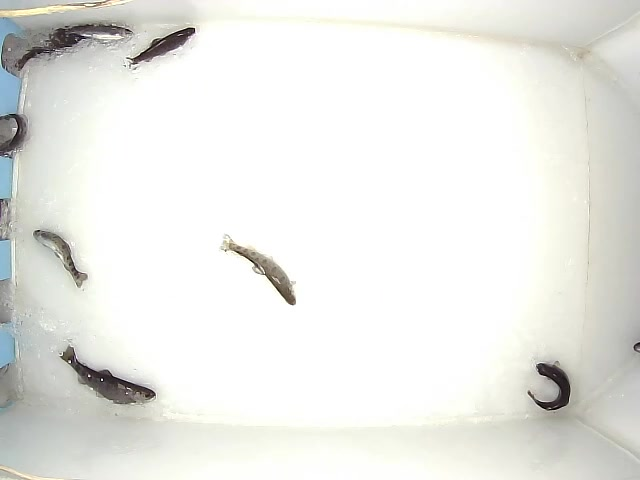fish: (58, 343, 158, 406), (218, 232, 297, 306), (32, 229, 89, 288), (121, 26, 196, 70), (527, 358, 572, 412), (56, 22, 136, 43), (1, 112, 31, 159)
